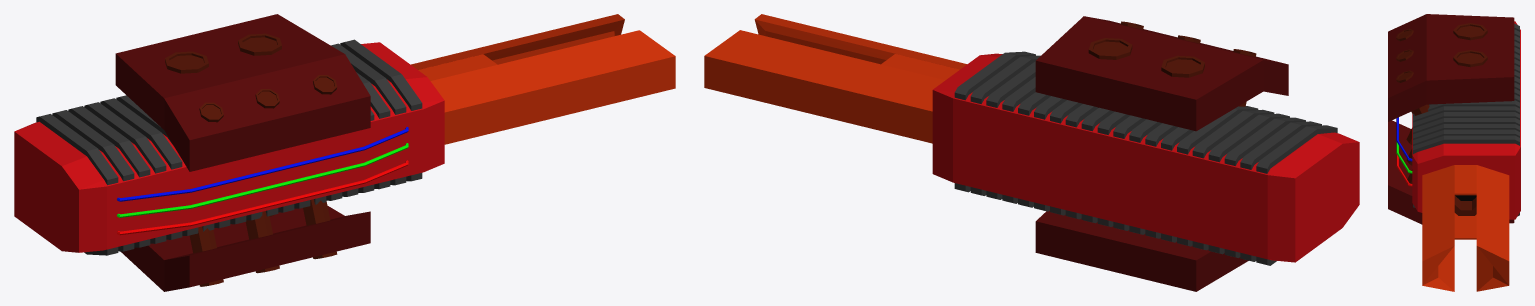
Rendered from laser2_barrel.obj.
3 views of the same model, side by side, from view 1: azimuth 30°, elevation 25°; view 2: azimuth 150°, elevation 25°; view 3: azimuth 270°, elevation 25° (orthographic). The views are drawn at different scales.
Parts seen in each view (by area): view 1: Cylinder.008; view 2: Cylinder.008; view 3: Cylinder.008.
Boxes of the visible parts, x1,y1,x2,y2 form: Cylinder.008: (14,14,675,291); Cylinder.008: (704,14,1359,291); Cylinder.008: (1388,14,1520,291).
Size of the model in its own units: 3.75 by 1.2 by 0.9531.
